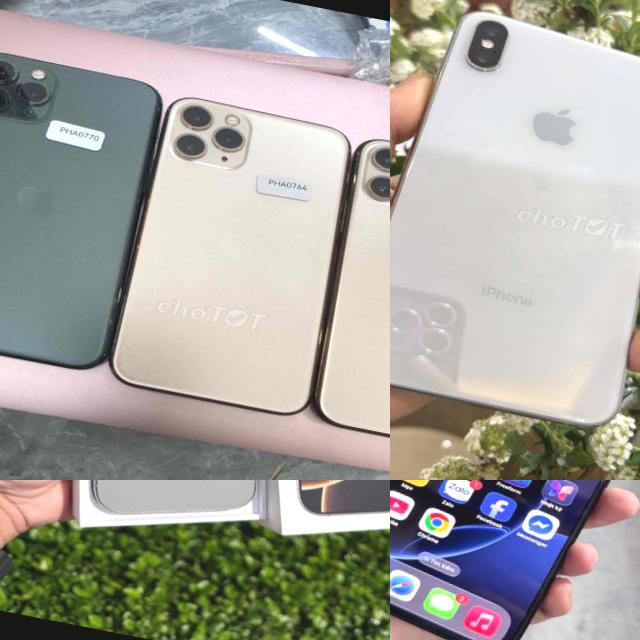gen_11: (104, 84, 364, 428), (0, 27, 167, 381), (309, 124, 390, 469)
gen_16: (390, 480, 640, 640)
gen_x_xs: (390, 12, 640, 424)
